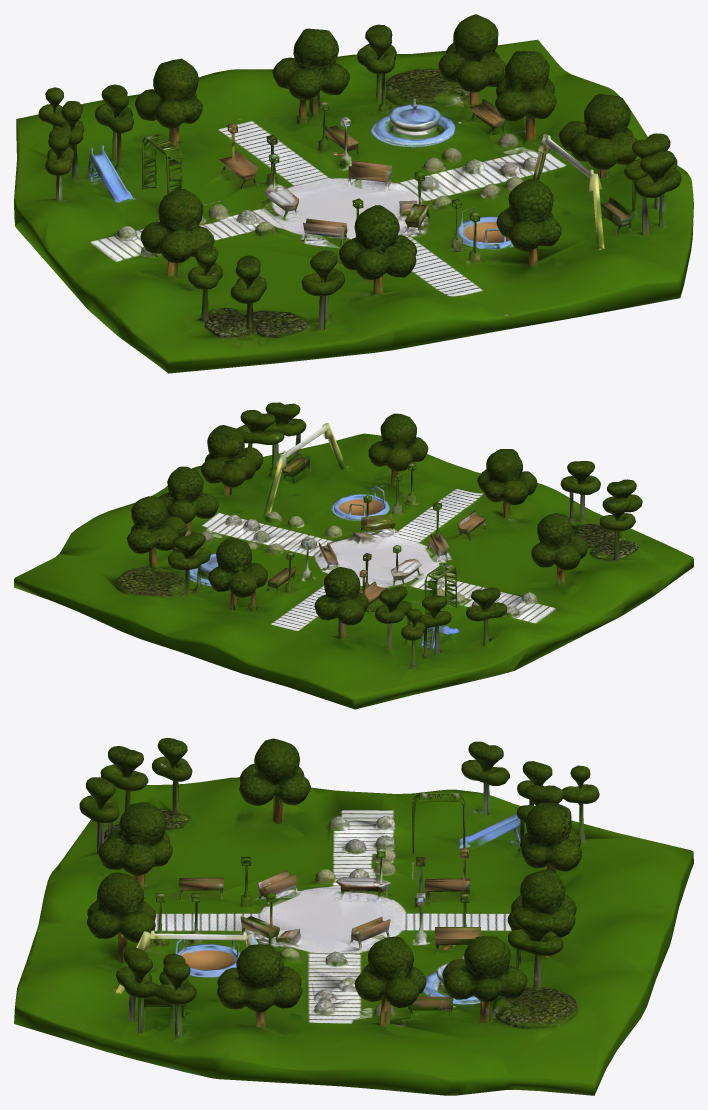
Rendered from park.glb.
3 views of the same model, one above another, from view 1: azimuth 30°, elevation 25°; view 2: azimuth 150°, elevation 25°; view 3: azimuth 270°, elevation 25° (orthographic). The views are drawn at different scales.
Visible parts, largest first — view 1: node_0; view 2: node_0; view 3: node_0.
Boxes of the visible parts, left/top/right/bottom form: node_0: left=14, top=14, right=693, bottom=373; node_0: left=14, top=402, right=693, bottom=709; node_0: left=14, top=738, right=693, bottom=1095.
Bounding box in the file's own units: 0.9839 × 0.1557 × 0.9461.
1 material, 1 textured.
